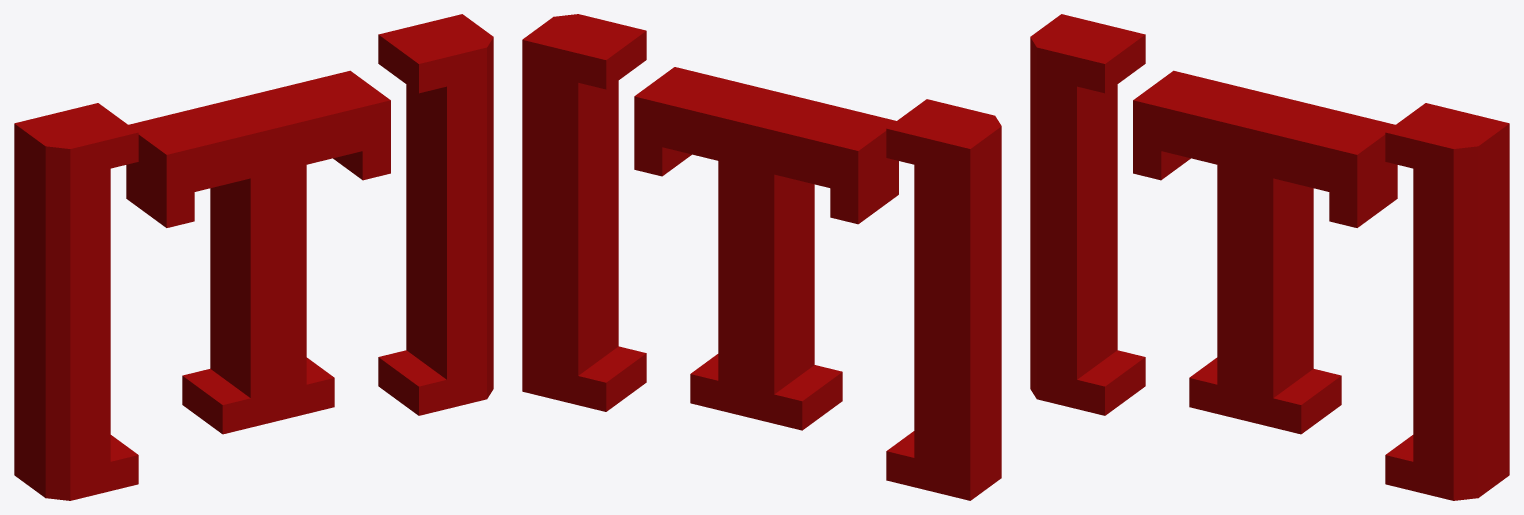
3 views of the same model, side by side, from view 1: azimuth 30°, elevation 25°; view 2: azimuth 150°, elevation 25°; view 3: azimuth 330°, elevation 25° (orthographic).
Visible parts, largest first — view 1: Mesh_Mesh_head_geo.001_lambert2SG.001; view 2: Mesh_Mesh_head_geo.001_lambert2SG.001; view 3: Mesh_Mesh_head_geo.001_lambert2SG.001.
Part boxes in pixels (x1,y1,x2,y2): Mesh_Mesh_head_geo.001_lambert2SG.001: (14, 14, 493, 500); Mesh_Mesh_head_geo.001_lambert2SG.001: (522, 14, 1001, 500); Mesh_Mesh_head_geo.001_lambert2SG.001: (1030, 14, 1509, 500).
Bounding box in the file's own units: 0.032 × 0.024 × 0.005.
